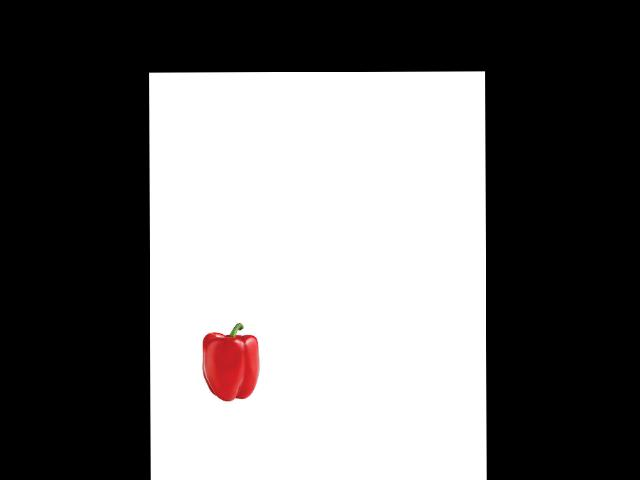bell_pepper: (198, 322, 262, 403)
